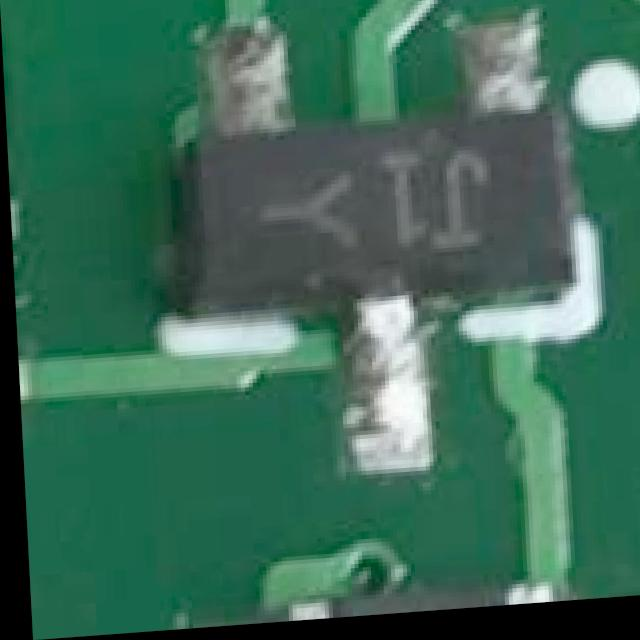resistor: (140, 0, 440, 4)
transistor: (130, 157, 526, 529)
